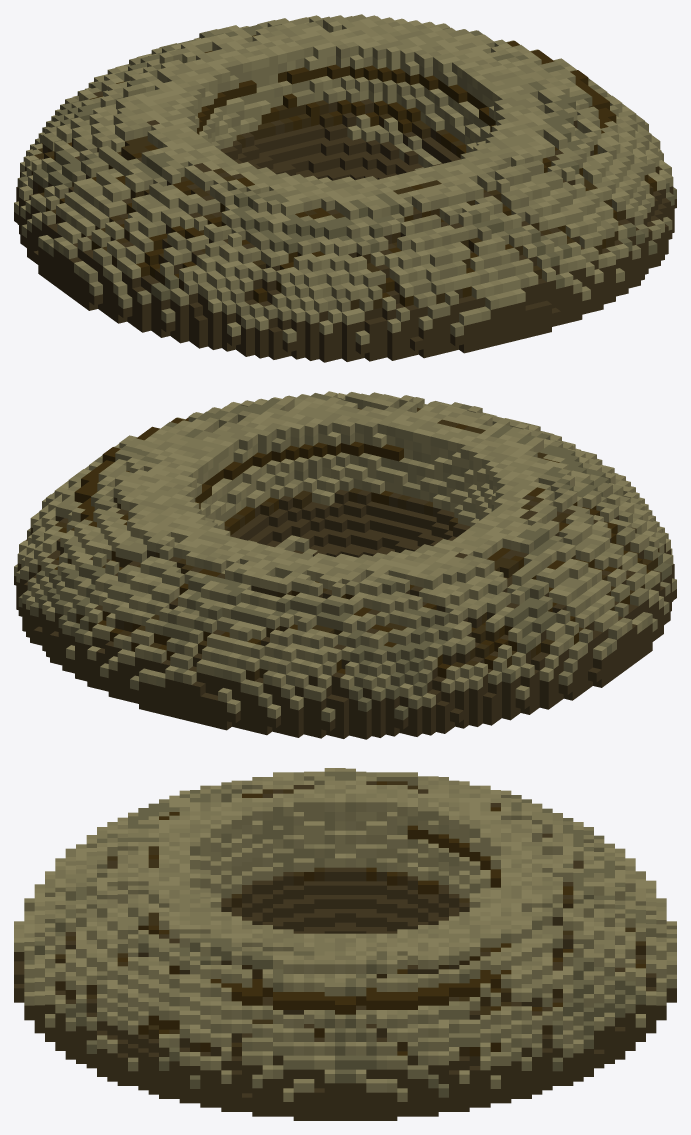
File: StoneCannon-7-BottomCube.obj
The picture shows the model from 3 angles, top to bottom: view 1: azimuth 30°, elevation 25°; view 2: azimuth 150°, elevation 25°; view 3: azimuth 270°, elevation 25°; orthographic projection.
Visible parts, largest first — view 1: BottomCube; view 2: BottomCube; view 3: BottomCube.
Part boxes in pixels (left/top/right/bottom): BottomCube: left=14, top=14, right=676, bottom=362; BottomCube: left=14, top=391, right=676, bottom=739; BottomCube: left=14, top=768, right=676, bottom=1120.
Bounding box in the file's own units: 12.8 × 2.4 × 12.8.
Materials: 1 (1 with a texture image).
